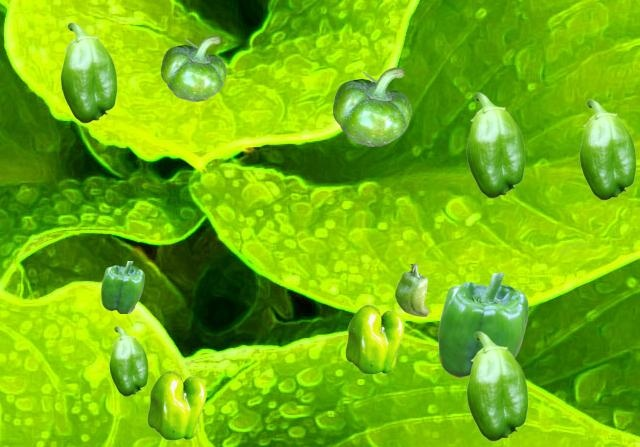bell_pepper: (438, 273, 527, 378), (466, 331, 527, 440), (466, 92, 524, 197), (333, 67, 410, 145), (60, 22, 116, 122), (579, 99, 635, 199), (161, 35, 225, 100), (147, 370, 205, 439), (345, 304, 403, 373), (109, 326, 147, 395), (101, 261, 143, 312), (395, 264, 427, 315)
